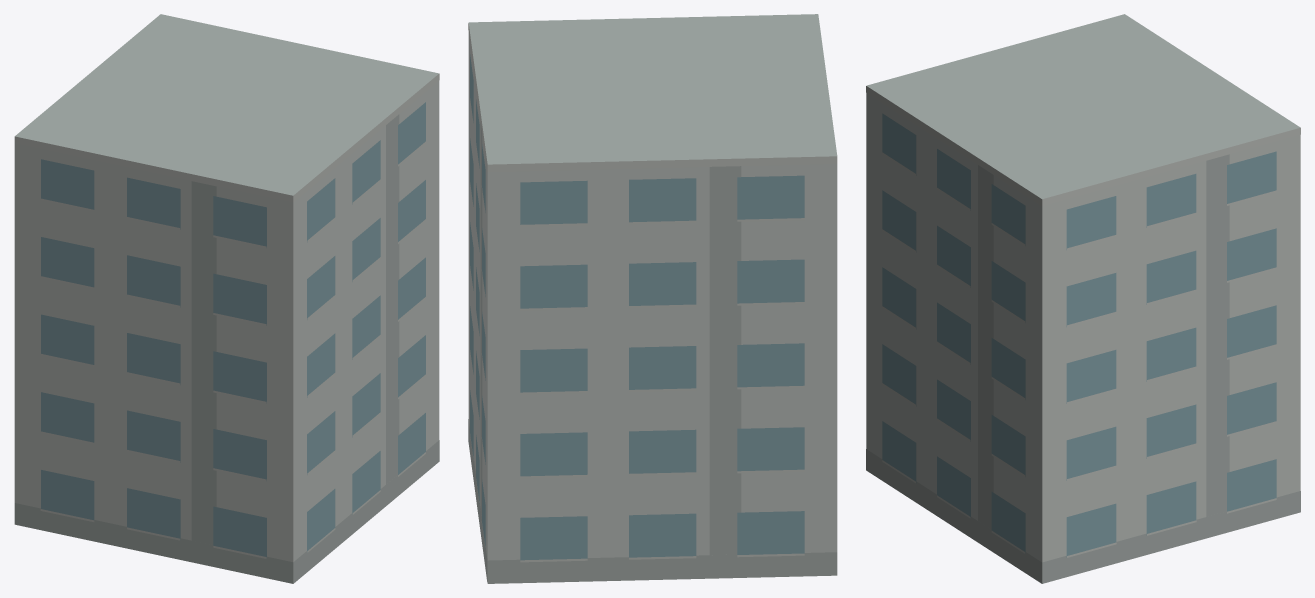
File: residential-69a99efe-39df-44db-9842-39af591555ce.glb
The picture shows the model from 3 angles, left to right: view 1: azimuth 30°, elevation 25°; view 2: azimuth 150°, elevation 25°; view 3: azimuth 270°, elevation 25°; orthographic projection. The views are drawn at different scales.
Visible parts, largest first — view 1: residential-69a99efe-39df-44db-9842-39af591555ce.tmp; view 2: residential-69a99efe-39df-44db-9842-39af591555ce.tmp; view 3: residential-69a99efe-39df-44db-9842-39af591555ce.tmp.
Part boxes in pixels (bbox=[...]): residential-69a99efe-39df-44db-9842-39af591555ce.tmp: bbox=[14, 14, 439, 583]; residential-69a99efe-39df-44db-9842-39af591555ce.tmp: bbox=[468, 14, 837, 583]; residential-69a99efe-39df-44db-9842-39af591555ce.tmp: bbox=[866, 14, 1300, 583].
Bounding box in the file's own units: 13.95 × 13.5 × 13.84.
